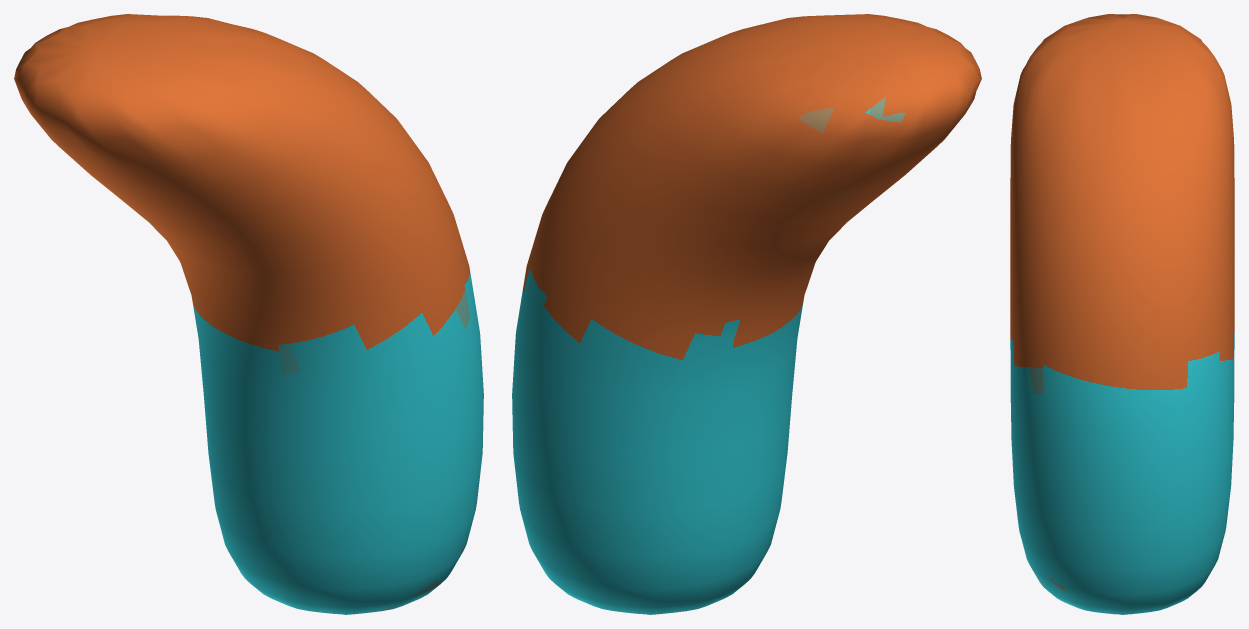
3 renders of one model, left to right at view 1: azimuth 30°, elevation 25°; view 2: azimuth 150°, elevation 25°; view 3: azimuth 270°, elevation 25°, orthographic. The views are drawn at different scales.
Visible parts, largest first — view 1: Cylinder.057; view 2: Cylinder.057; view 3: Cylinder.057.
Boxes of the visible parts, x1,y1,x2,y2 form: Cylinder.057: (14, 14, 483, 614); Cylinder.057: (512, 14, 981, 614); Cylinder.057: (1010, 14, 1234, 614).
Size of the model in its own units: 0.2216 by 0.2934 by 0.1248.
Materials: 1 (1 with a texture image).
